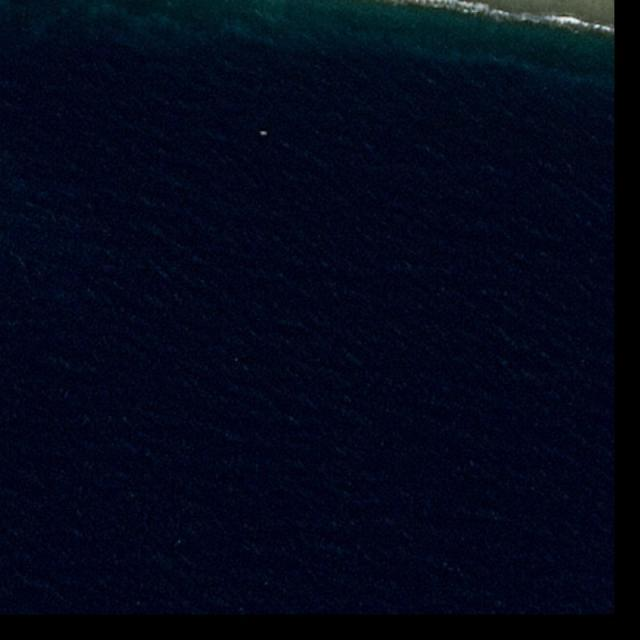ship: (260, 130, 266, 136)
